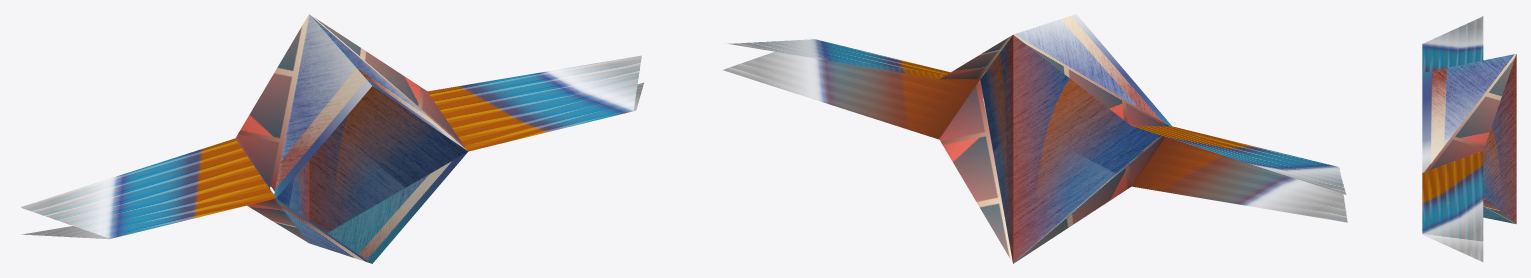
File: wind_1.obj
The picture shows the model from 3 angles, left to right: view 1: azimuth 30°, elevation 25°; view 2: azimuth 150°, elevation 25°; view 3: azimuth 270°, elevation 25°; orthographic projection. The views are drawn at different scales.
Visible parts, largest first — view 1: body; view 2: body; view 3: body.
Boxes of the visible parts, <box> form: body: <box>21,14,643,263</box>; body: <box>723,14,1347,263</box>; body: <box>1422,16,1516,262</box>.
Bounding box in the file's own units: 394 × 136 × 68.07.
1 material, 1 textured.
